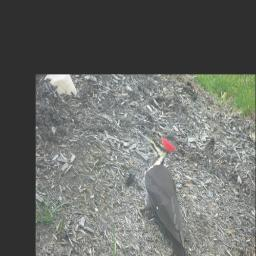Woodpecker: (134, 131, 193, 256)
